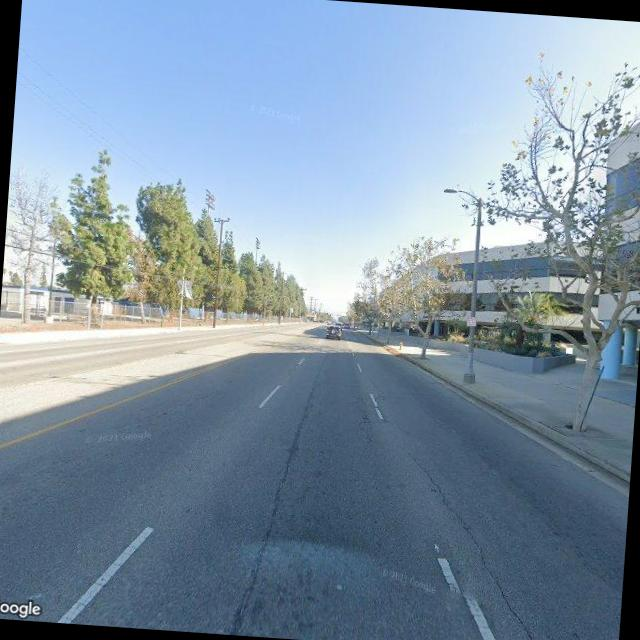crack: (389, 432, 556, 640)
